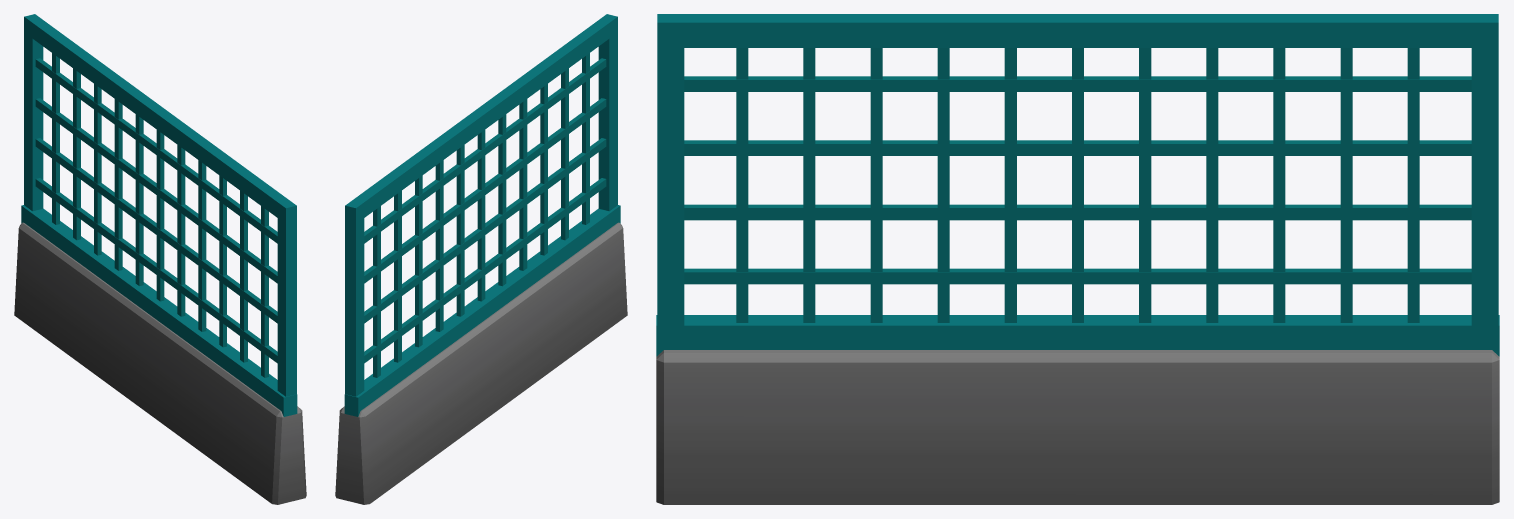
File: Fence_1_C_4.fbx
The picture shows the model from 3 angles, left to right: view 1: azimuth 30°, elevation 25°; view 2: azimuth 150°, elevation 25°; view 3: azimuth 270°, elevation 25°; orthographic projection. The views are drawn at different scales.
Visible parts, largest first — view 1: Fence_1_C_4; view 2: Fence_1_C_4; view 3: Fence_1_C_4.
Part boxes in pixels (bbox=[...]): Fence_1_C_4: bbox=[14, 14, 306, 504]; Fence_1_C_4: bbox=[335, 14, 627, 504]; Fence_1_C_4: bbox=[656, 14, 1499, 504].
Size of the model in its own units: 30.52 by 248 by 400.
